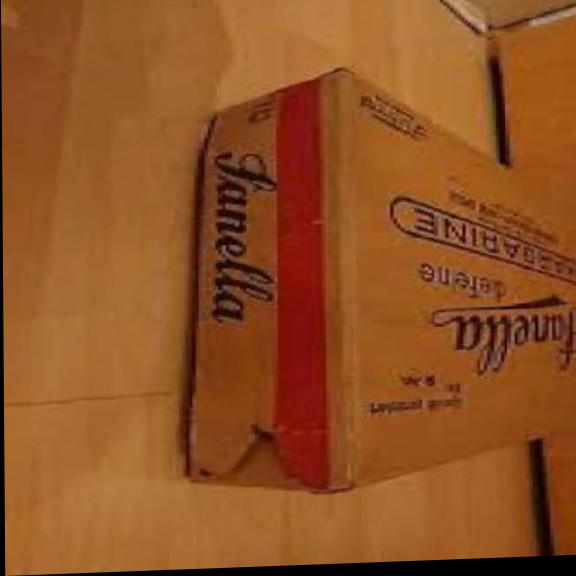Kertas: (190, 71, 576, 490)
